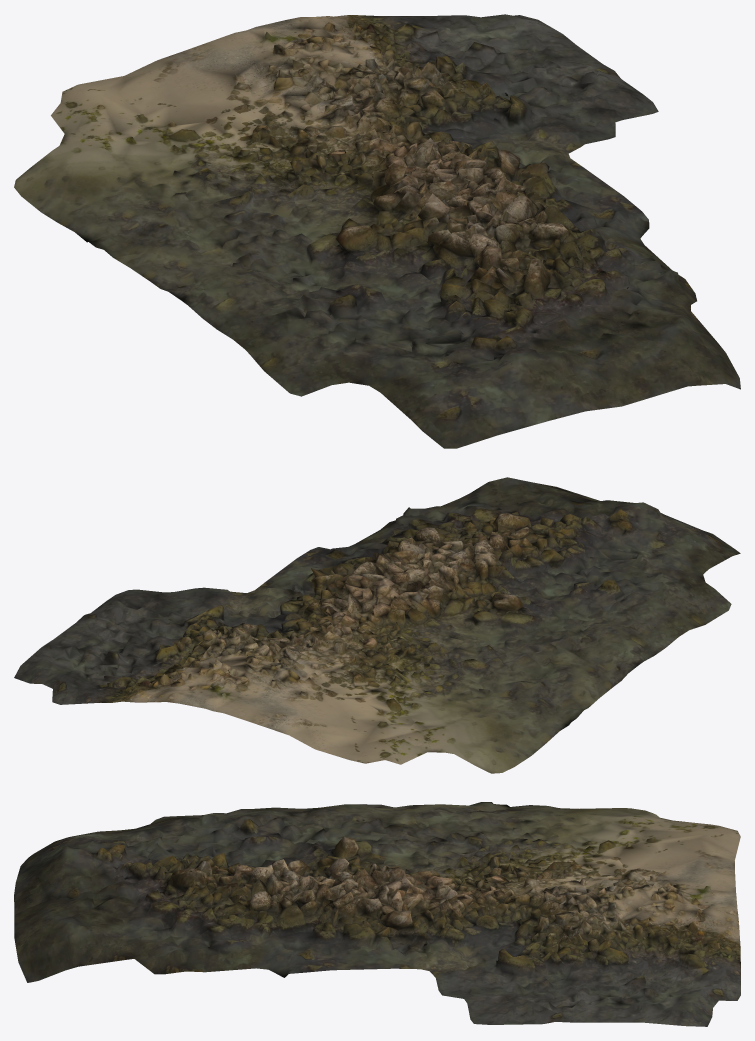
Rendered from rocks.glb.
3 renders of one model, top to bottom at view 1: azimuth 30°, elevation 25°; view 2: azimuth 150°, elevation 25°; view 3: azimuth 270°, elevation 25°, orthographic. The views are drawn at different scales.
Parts seen in each view (by area): view 1: coast_rocks_03; view 2: coast_rocks_03; view 3: coast_rocks_03.
Part boxes in pixels (x1=…): coast_rocks_03: x1=14, y1=14, x2=740, y2=448; coast_rocks_03: x1=14, y1=477, x2=740, y2=773; coast_rocks_03: x1=14, y1=802, x2=740, y2=1026.
Size of the model in its own units: 21.12 by 3.2 by 28.27.
1 material, 1 textured.
